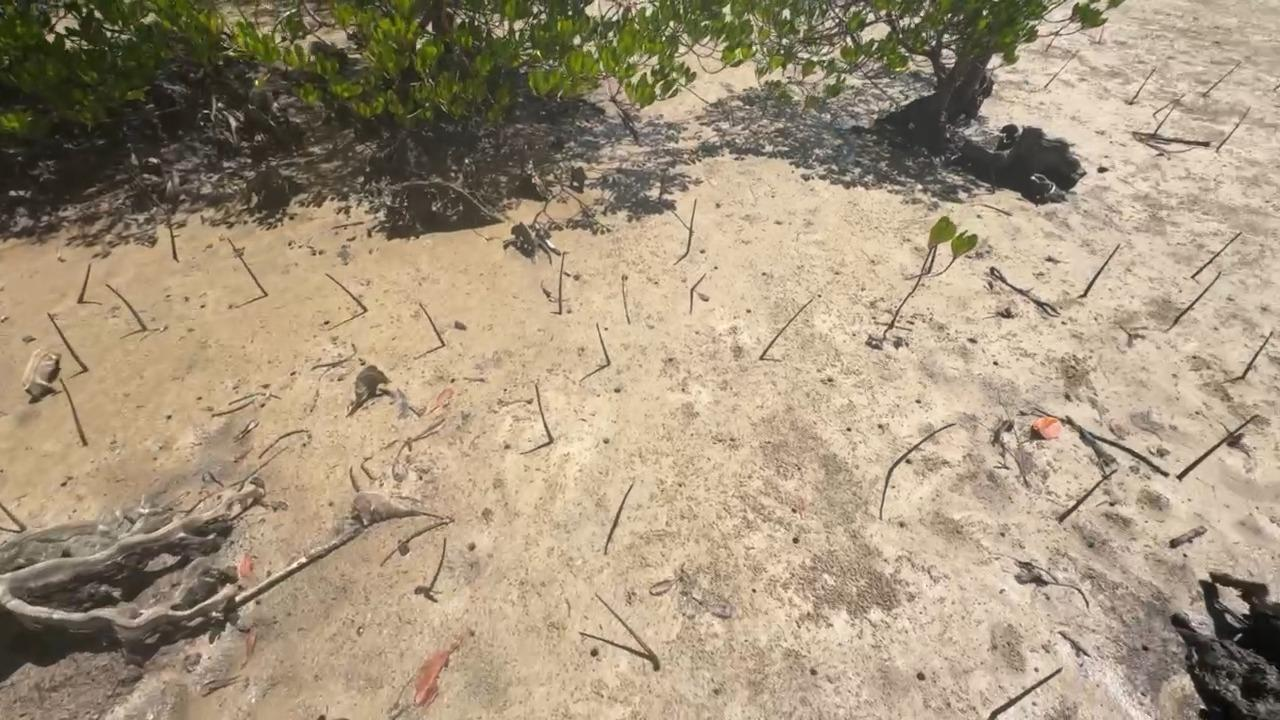Tree: (1176, 415, 1256, 481), (594, 591, 659, 667), (886, 422, 958, 479), (990, 667, 1063, 720), (759, 298, 814, 361), (1058, 468, 1119, 523), (1172, 272, 1223, 326), (46, 311, 89, 373), (225, 238, 269, 297), (1190, 231, 1243, 278), (104, 281, 149, 332), (59, 378, 89, 448), (1082, 243, 1121, 296), (325, 272, 369, 312), (1215, 106, 1252, 151), (1241, 331, 1273, 379), (1202, 62, 1240, 97), (534, 383, 555, 444), (418, 302, 446, 347), (1043, 50, 1075, 88), (611, 484, 636, 528), (427, 538, 447, 591), (0, 498, 28, 531), (1129, 69, 1154, 104), (596, 321, 613, 366), (685, 197, 698, 254), (1152, 94, 1182, 116), (166, 209, 178, 261), (78, 264, 91, 304), (558, 251, 566, 315), (691, 272, 709, 293)
